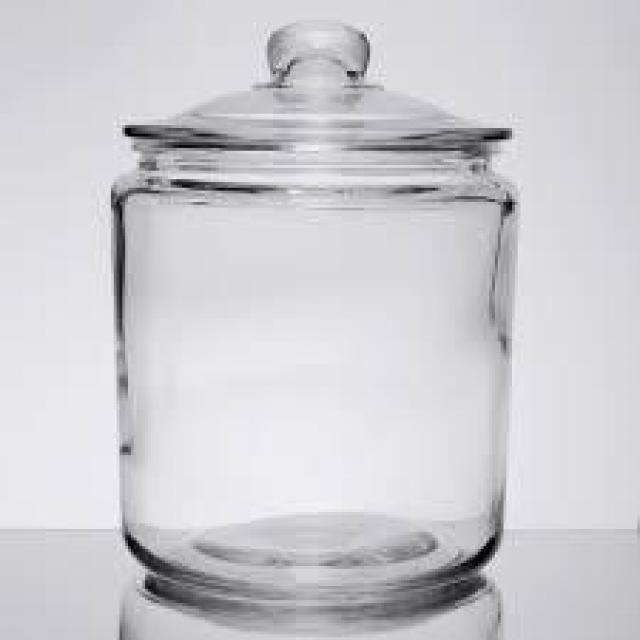glass: (106, 17, 524, 603)
